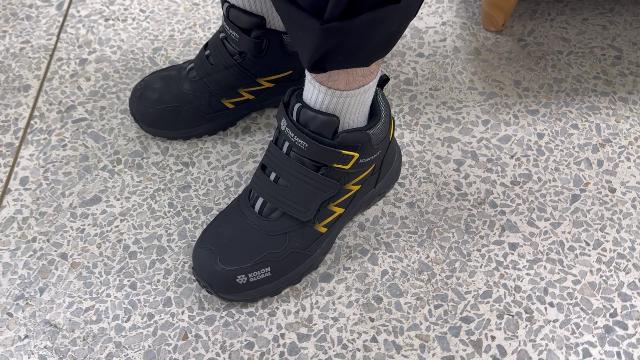shoe_worn: (189, 93, 408, 307), (127, 1, 338, 145)
